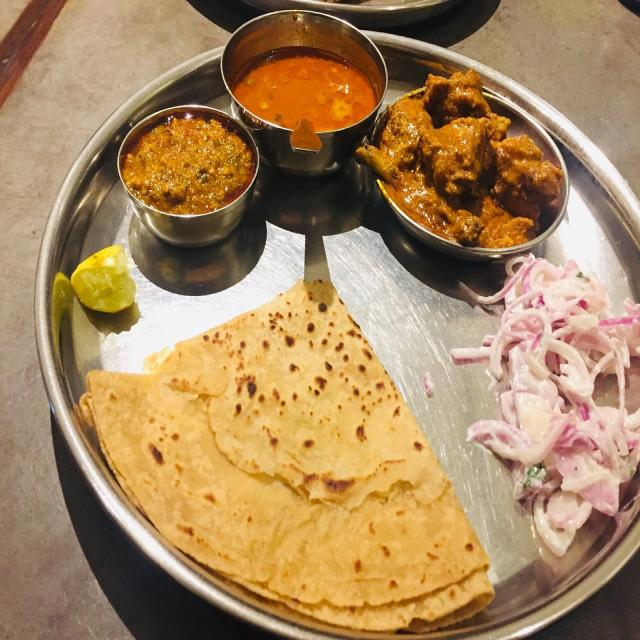non veg meals: (42, 7, 640, 640)
